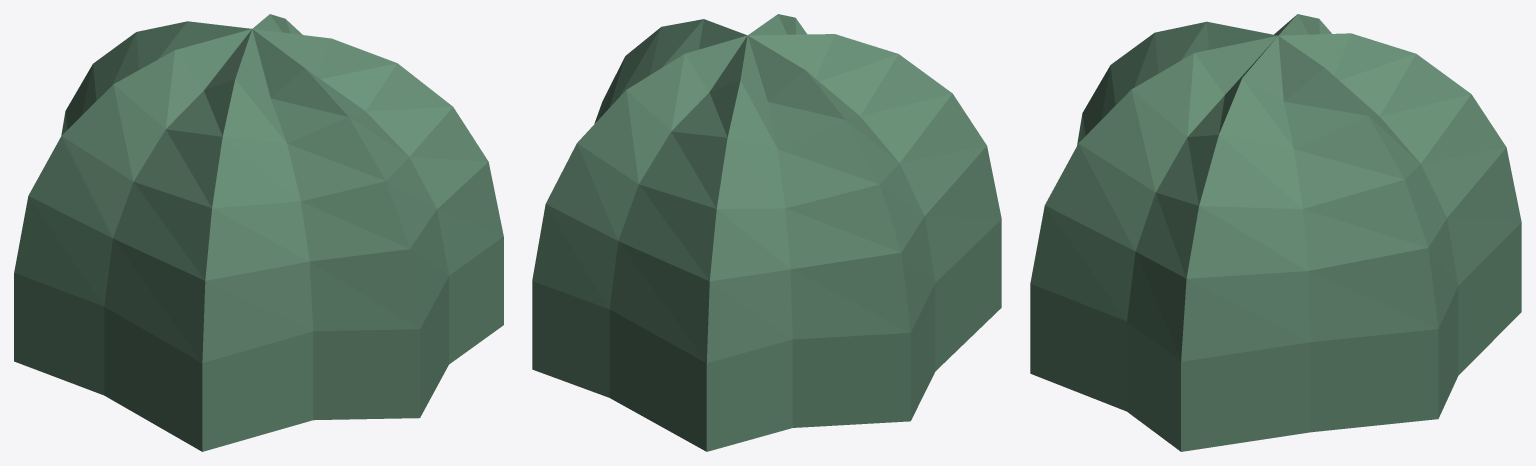
The model's file is hill_dome_a.glb.
The picture shows the model from 3 angles, left to right: view 1: azimuth 30°, elevation 25°; view 2: azimuth 150°, elevation 25°; view 3: azimuth 270°, elevation 25°; orthographic projection.
Visible parts, largest first — view 1: land; view 2: land; view 3: land.
Boxes of the visible parts, x1,y1,x2,y2 form: land: [14, 14, 503, 451]; land: [532, 14, 1001, 451]; land: [1030, 14, 1521, 451].
Size of the model in its own units: 1.91 by 1.4 by 1.98.
